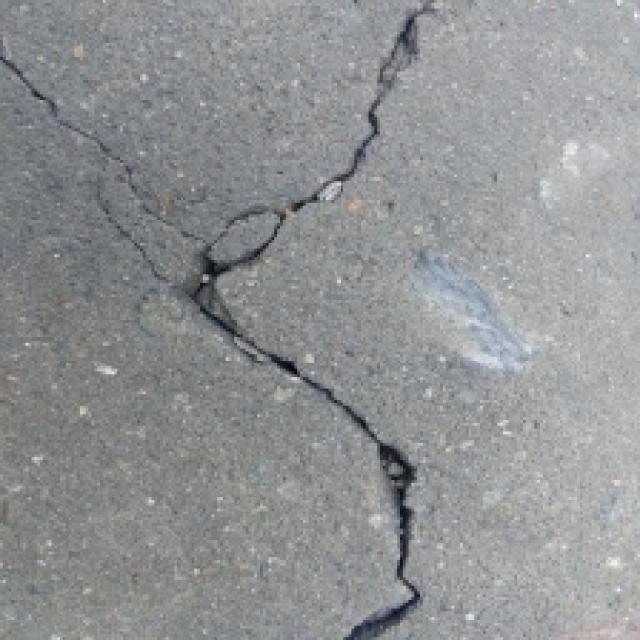SurfaceCrack: (158, 280, 426, 640), (150, 8, 430, 306)
